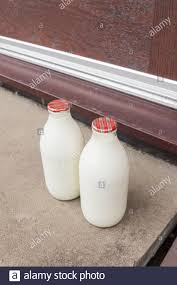milk: (76, 110, 130, 241), (39, 98, 87, 206)
